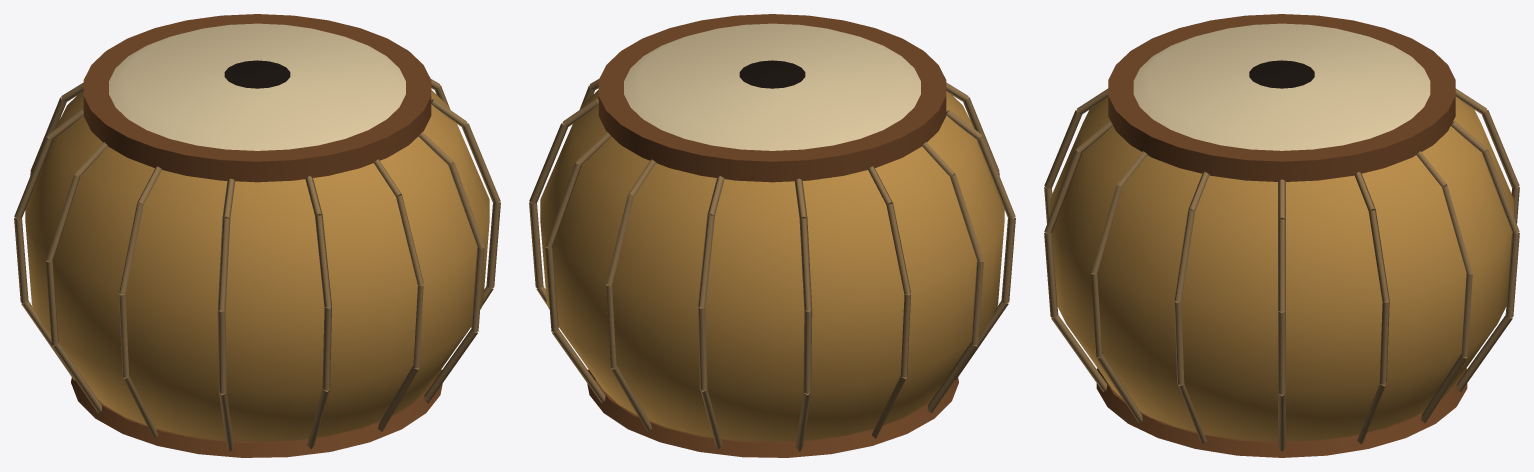
Rendered from bendre.glb.
The picture shows the model from 3 angles, left to right: view 1: azimuth 30°, elevation 25°; view 2: azimuth 150°, elevation 25°; view 3: azimuth 270°, elevation 25°; orthographic projection.
Visible parts, largest first — view 1: bendre; view 2: bendre; view 3: bendre.
Boxes of the visible parts, x1,y1,x2,y2 form: bendre: [14, 14, 500, 457]; bendre: [529, 14, 1015, 457]; bendre: [1044, 14, 1519, 457].
Bounding box in the file's own units: 0.732 × 0.59 × 0.7136.
